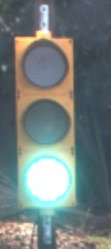Green: (11, 36, 85, 214)
